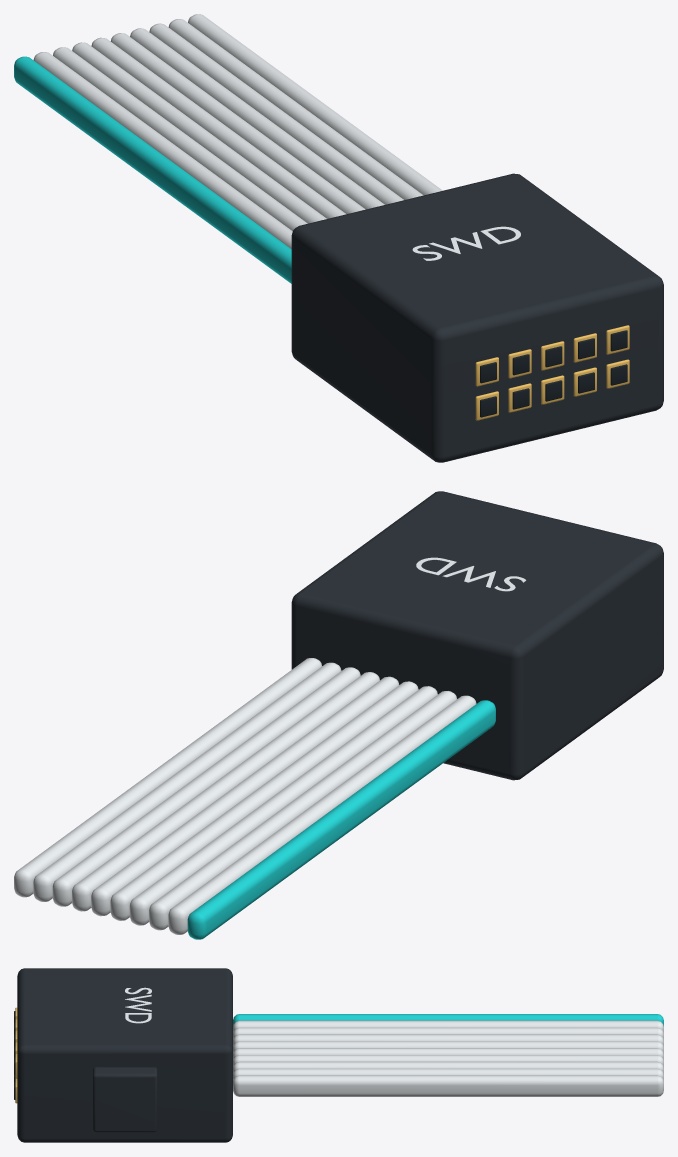
The model's file is SWD_10pin_plug.glb.
The picture shows the model from 3 angles, top to bottom: view 1: azimuth 30°, elevation 25°; view 2: azimuth 150°, elevation 25°; view 3: azimuth 270°, elevation 25°; orthographic projection. The views are drawn at different scales.
Visible parts, largest first — view 1: Keyed SWD housing, Ribbon conductor, Ribbon conductor.001, Ribbon conductor.002, Ribbon conductor.003, Ribbon conductor.006, Ribbon conductor.004, Ribbon conductor.007, Ribbon conductor.008, Ribbon conductor.009, Ribbon conductor.005, SWD; view 2: Keyed SWD housing, Ribbon conductor, Ribbon conductor.003, Ribbon conductor.007, Ribbon conductor.008, Ribbon conductor.001, Ribbon conductor.004, Ribbon conductor.005, Ribbon conductor.009, Ribbon conductor.002, Ribbon conductor.006, SWD; view 3: Keyed SWD housing, Ribbon conductor.009, Polarizing key, Ribbon conductor.001, Ribbon conductor.007, Ribbon conductor.002, Ribbon conductor.008, Ribbon conductor.003, Ribbon conductor, Ribbon conductor.006, Ribbon conductor.005, Ribbon conductor.004 (+1 smaller).
Boxes of the visible parts, x1,y1,x2,y2 form: Keyed SWD housing: [291, 173, 663, 462]; Ribbon conductor: [14, 56, 291, 283]; Ribbon conductor.001: [33, 52, 292, 248]; Ribbon conductor.002: [53, 47, 307, 230]; Ribbon conductor.003: [72, 42, 326, 223]; Ribbon conductor.006: [130, 28, 384, 209]; Ribbon conductor.004: [91, 37, 346, 218]; Ribbon conductor.007: [149, 23, 403, 204]; Ribbon conductor.008: [168, 19, 423, 199]; Ribbon conductor.009: [188, 14, 442, 195]; Ribbon conductor.005: [110, 33, 365, 213]; SWD: [412, 226, 520, 260]; Keyed SWD housing: [291, 491, 663, 780]; Ribbon conductor: [187, 700, 495, 939]; Ribbon conductor.003: [129, 686, 437, 925]; Ribbon conductor.007: [52, 667, 360, 906]; Ribbon conductor.008: [33, 662, 341, 901]; Ribbon conductor.001: [168, 695, 476, 934]; Ribbon conductor.004: [110, 681, 418, 920]; Ribbon conductor.005: [91, 676, 399, 916]; Ribbon conductor.009: [14, 658, 321, 897]; Ribbon conductor.002: [149, 691, 456, 930]; Ribbon conductor.006: [72, 672, 379, 911]; SWD: [416, 557, 526, 591]; Keyed SWD housing: [17, 968, 232, 1142]; Ribbon conductor.009: [233, 1075, 663, 1096]; Polarizing key: [93, 1067, 157, 1132]; Ribbon conductor.001: [233, 1020, 663, 1032]; Ribbon conductor.007: [233, 1061, 663, 1073]; Ribbon conductor.002: [233, 1027, 663, 1039]; Ribbon conductor.008: [233, 1068, 663, 1080]; Ribbon conductor.003: [233, 1034, 663, 1046]; Ribbon conductor: [233, 1014, 663, 1026]; Ribbon conductor.006: [233, 1055, 663, 1067]; Ribbon conductor.005: [233, 1048, 663, 1060]; Ribbon conductor.004: [233, 1041, 663, 1053].
Bounding box in the file's own units: 0.00985 × 0.00506 × 0.0302.
